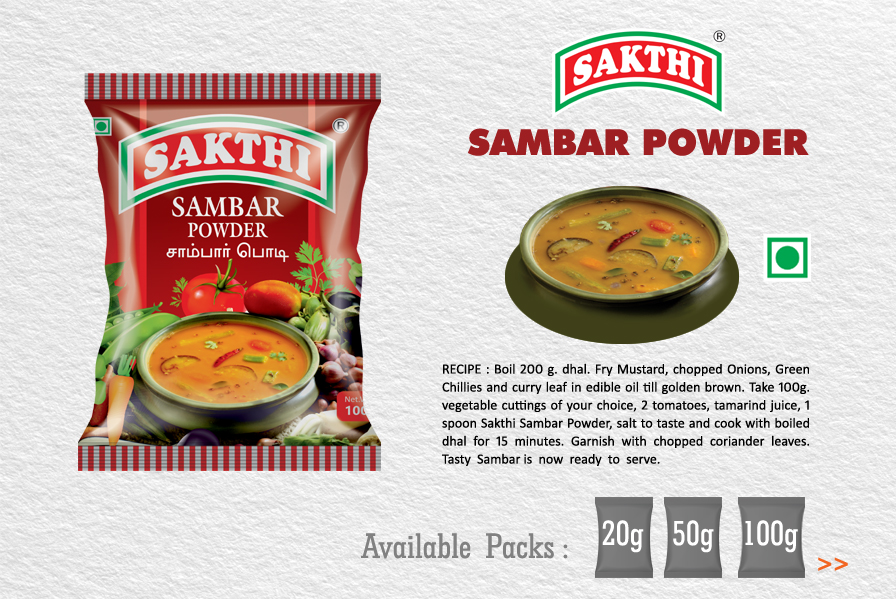VEG: (763, 233, 813, 283), (91, 116, 111, 137)
